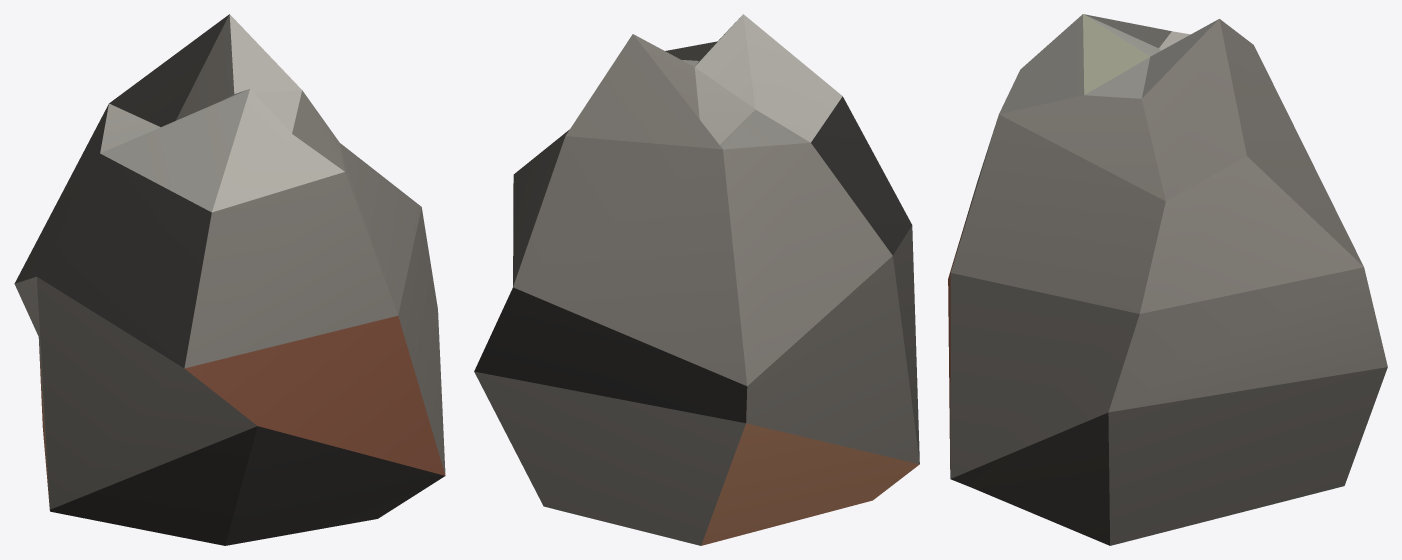
File: rock_small_a.glb
3 renders of one model, left to right at view 1: azimuth 30°, elevation 25°; view 2: azimuth 150°, elevation 25°; view 3: azimuth 270°, elevation 25°, orthographic. The views are drawn at different scales.
Visible parts, largest first — view 1: rock_small_a; view 2: rock_small_a; view 3: rock_small_a.
Part boxes in pixels (bbox=[...]): rock_small_a: bbox=[14, 14, 445, 545]; rock_small_a: bbox=[474, 14, 919, 545]; rock_small_a: bbox=[948, 14, 1387, 545].
Bounding box in the file's own units: 0.3283 × 0.3464 × 0.305.
Materials: 1 (1 with a texture image).
